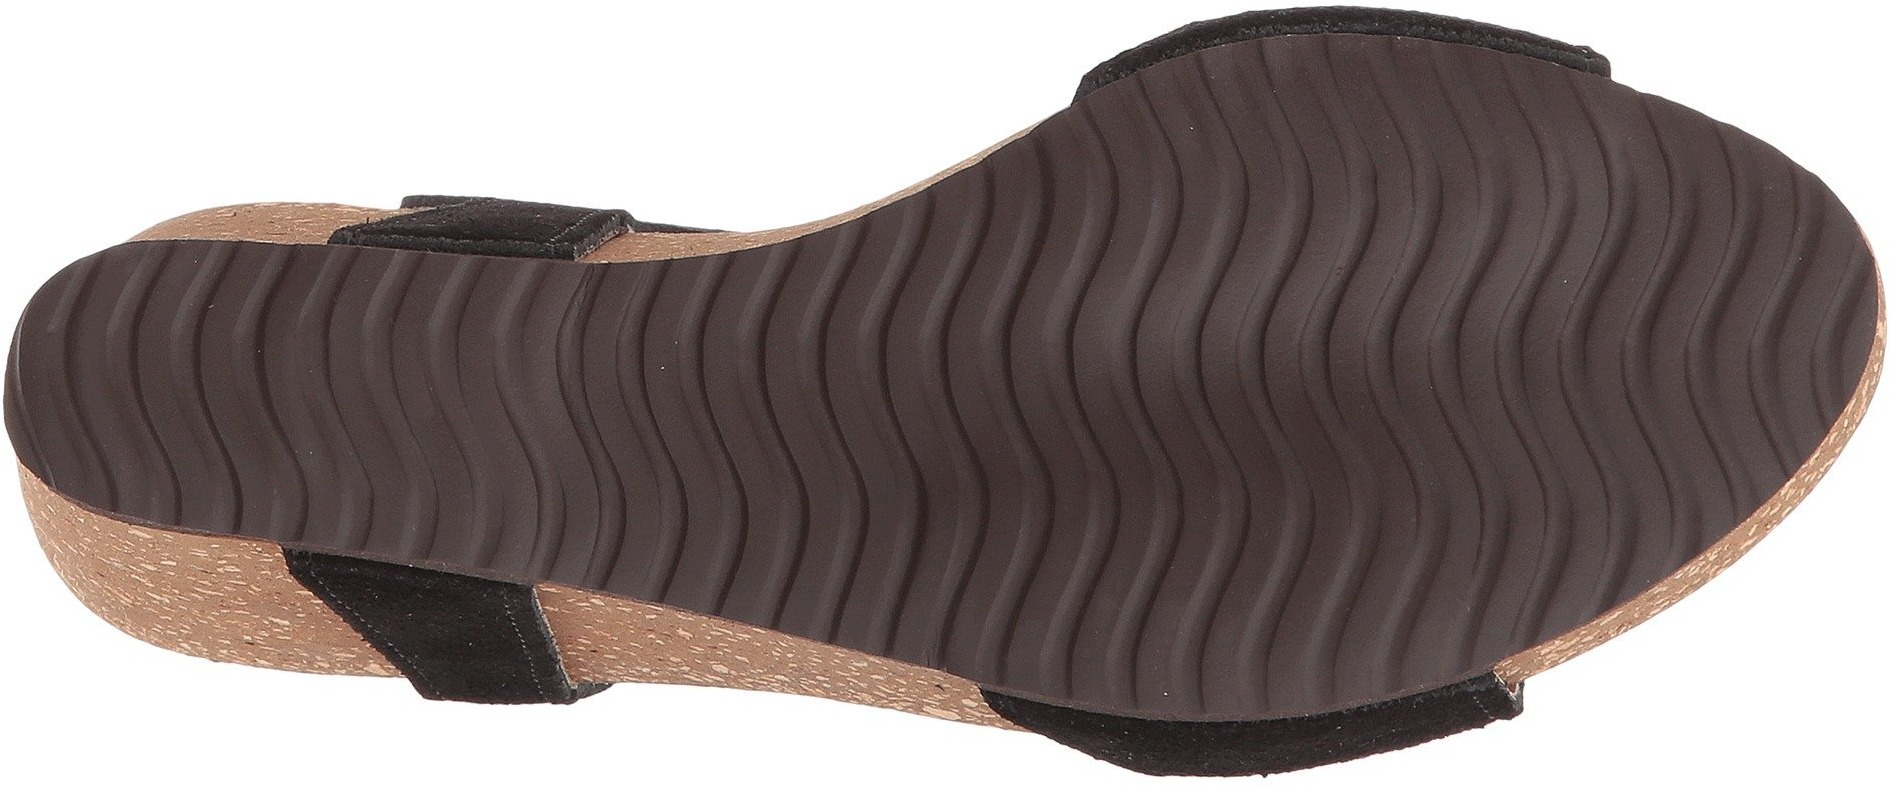chevron: (1336, 129, 1665, 450), (1026, 153, 1330, 473)
line: (534, 348, 823, 583)
quad: (755, 250, 998, 508), (290, 276, 521, 517), (49, 272, 284, 491), (532, 266, 746, 475), (1258, 480, 1458, 682), (1672, 231, 1849, 403)
